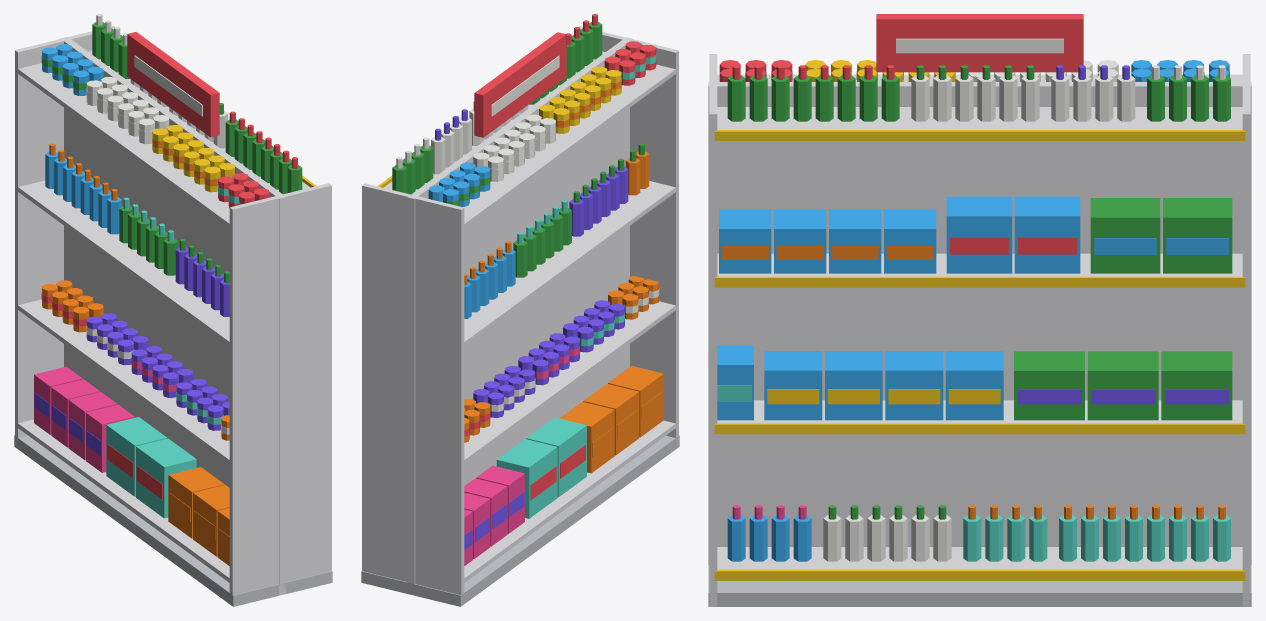
Rendered from gondola-tall.glb.
The picture shows the model from 3 angles, left to right: view 1: azimuth 30°, elevation 25°; view 2: azimuth 150°, elevation 25°; view 3: azimuth 270°, elevation 25°; orthographic projection. The views are drawn at different scales.
Visible parts, largest first — view 1: gondola-tall; view 2: gondola-tall; view 3: gondola-tall.
Boxes of the visible parts, box(x1,y1,x2,y2) form: gondola-tall: box(14, 14, 332, 606); gondola-tall: box(361, 14, 679, 606); gondola-tall: box(708, 14, 1251, 606).
Size of the model in its own units: 1.12 by 4.78 by 4.2.
